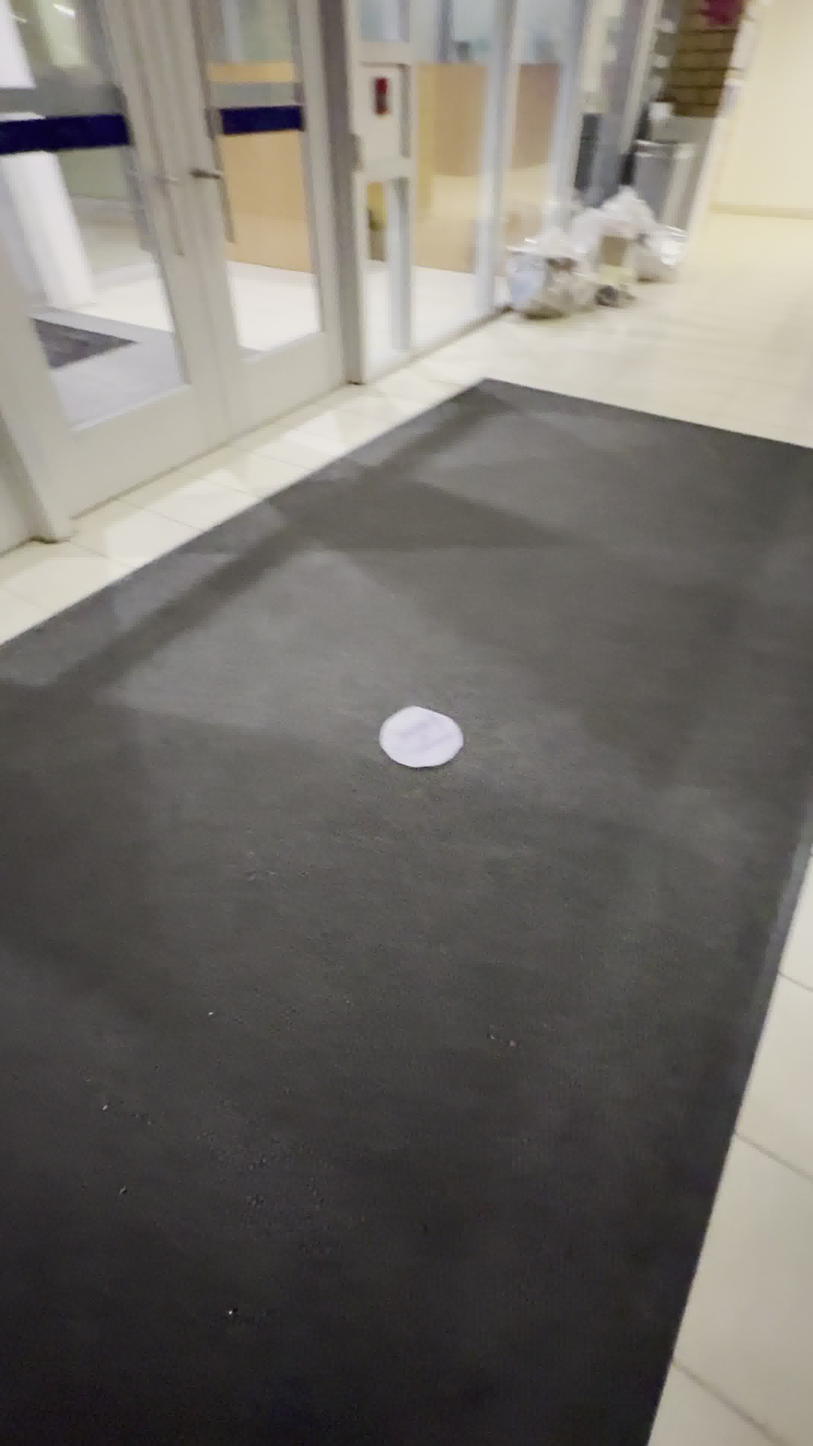Target: (377, 705, 464, 768)
